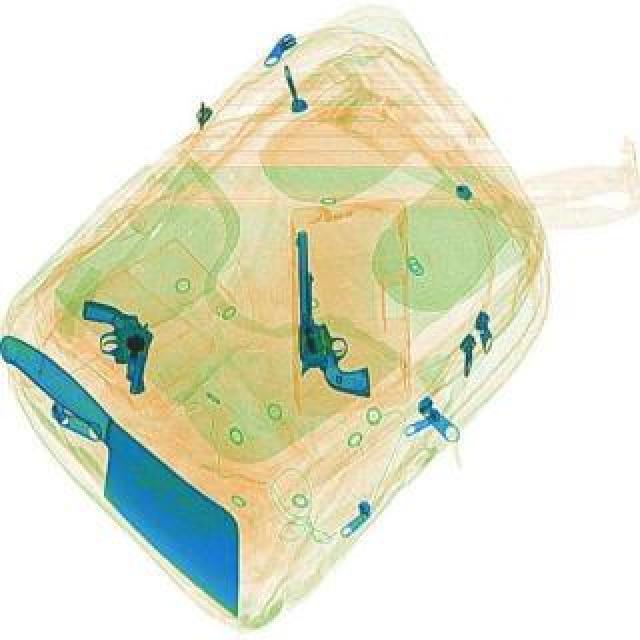gun: (290, 234, 370, 400), (64, 302, 162, 400)
knife: (0, 366, 292, 624)
